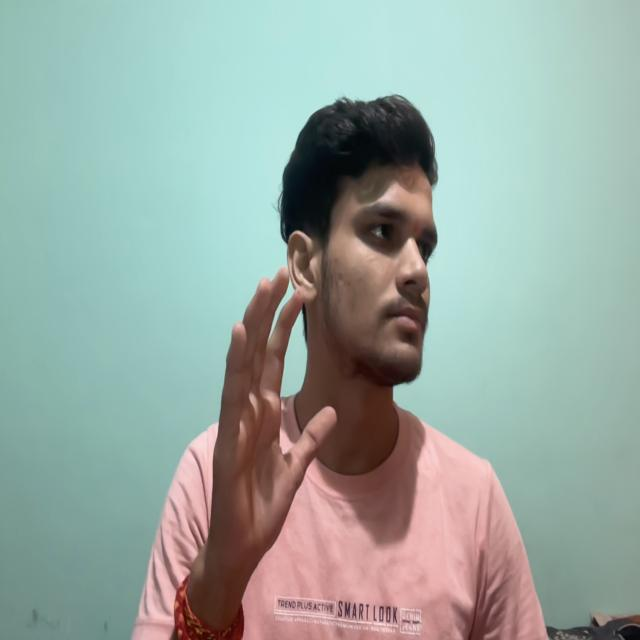hello: (198, 257, 343, 572)
